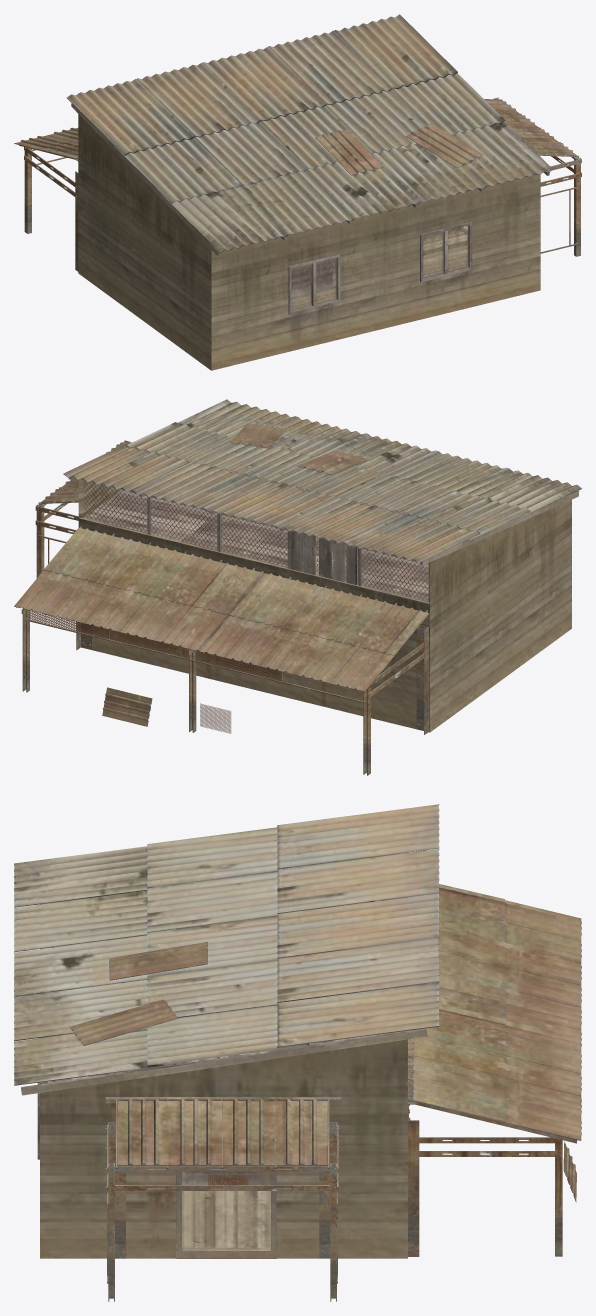
Rendered from house_e.glb.
3 views of the same model, one above another, from view 1: azimuth 30°, elevation 25°; view 2: azimuth 150°, elevation 25°; view 3: azimuth 270°, elevation 25° (orthographic). The views are drawn at different scales.
Parts seen in each view (by area): view 1: prefab; view 2: prefab; view 3: prefab.
Boxes of the visible parts, x1=… form: prefab: x1=14, y1=14, x2=581, y2=370; prefab: x1=14, y1=399, x2=581, y2=775; prefab: x1=14, y1=804, x2=581, y2=1301.
Size of the model in its own units: 24.12 by 9.87 by 21.6.
6 materials, 6 textured.
